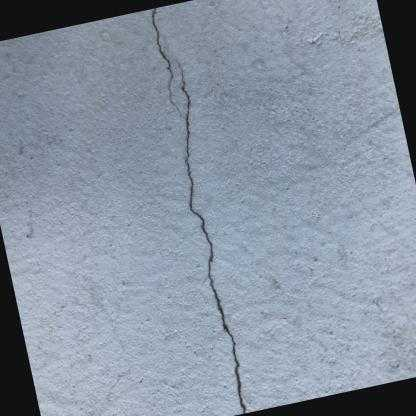crack: (175, 59, 244, 413), (150, 7, 180, 116)
